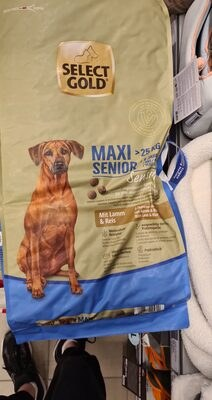Select Gold Sensitive Maxi Senior: (11, 20, 201, 380)
